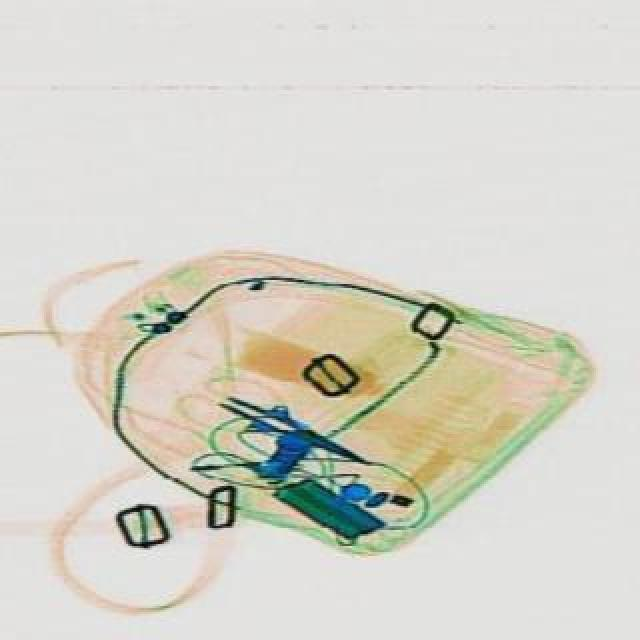knife: (210, 380, 374, 476)
